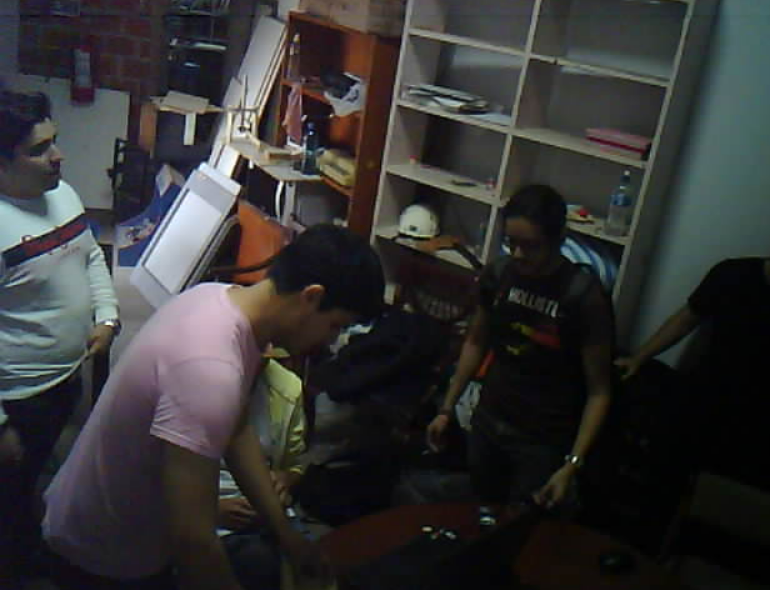person: (29, 218, 407, 590), (445, 134, 631, 526), (0, 80, 116, 502), (613, 235, 770, 519)
